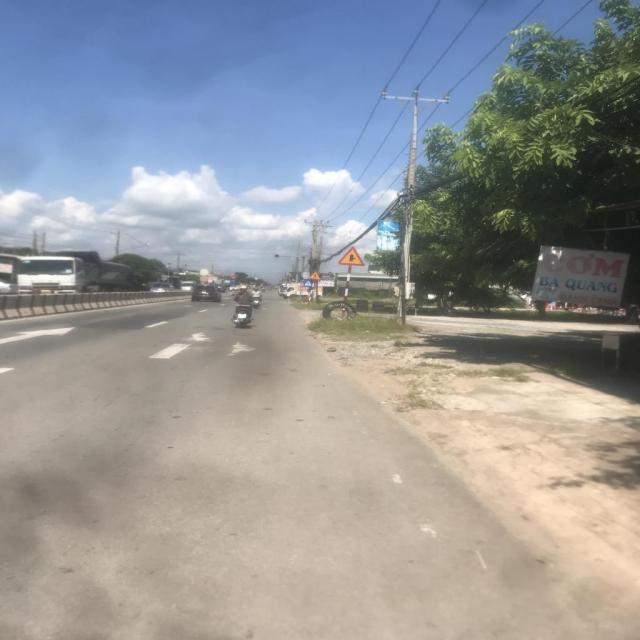cam_xe_di_nguoc_chieu: (230, 276, 236, 280)
chu_y_nguoi_di_bo_cat_ngang: (307, 270, 322, 280)
duong_nguoi_di_bo_sang_ngang: (304, 280, 312, 287)
giao_nhau_voi_duong_khong_uu_tien: (337, 245, 366, 267)
huong_phai_di_vuot_chuong_ngai_vat_phai: (230, 279, 235, 283)
